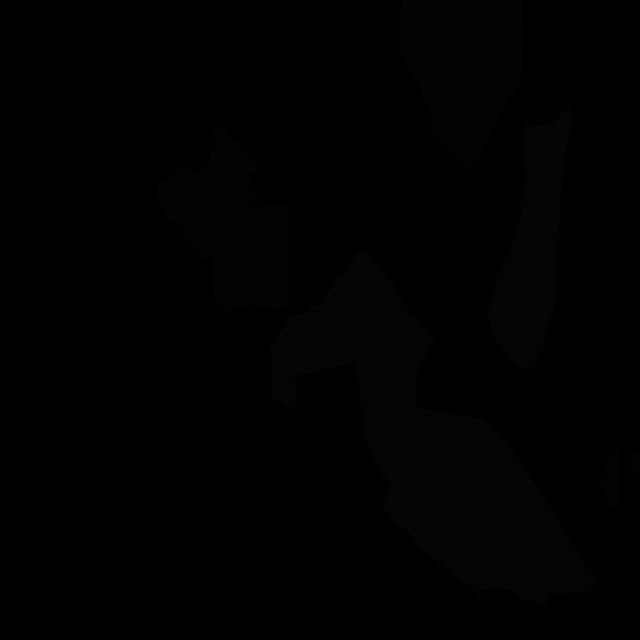cardboard: (398, 0, 524, 170), (156, 128, 259, 259), (212, 202, 290, 315), (600, 447, 621, 509), (632, 451, 640, 513)
soft_plastic: (270, 251, 597, 605), (487, 108, 572, 369)
